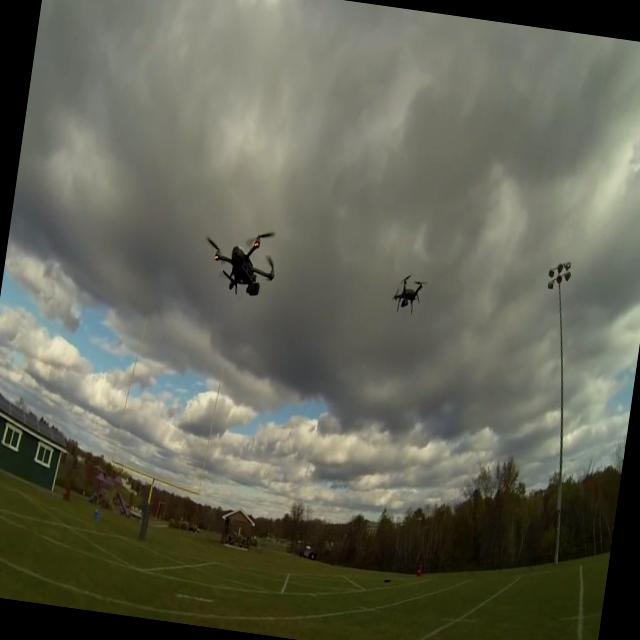drone: (198, 219, 282, 309), (389, 268, 429, 321)
